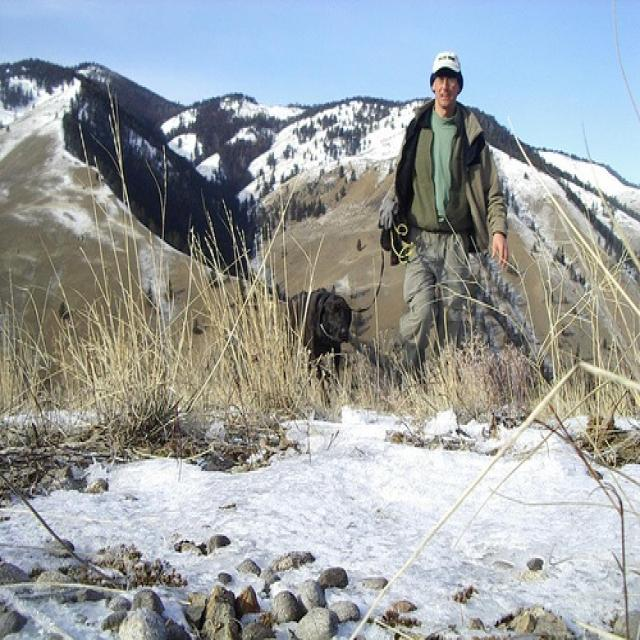dog: (283, 288, 353, 386)
